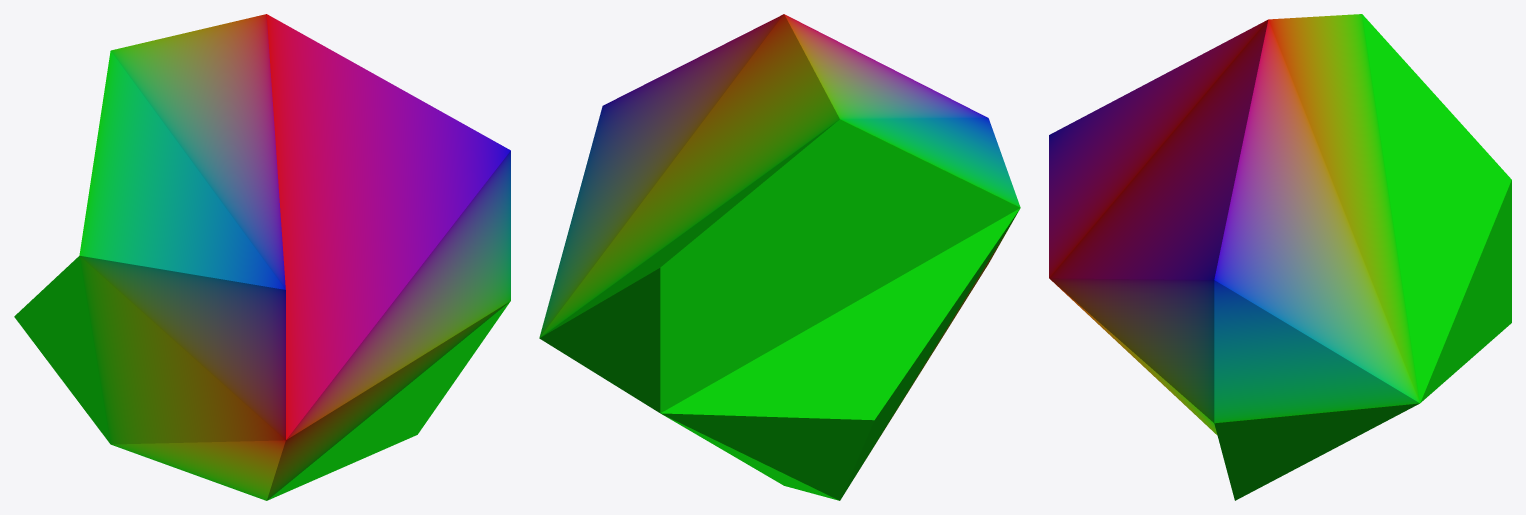
Rendered from all_4.obj.
3 views of the same model, side by side, from view 1: azimuth 30°, elevation 25°; view 2: azimuth 150°, elevation 25°; view 3: azimuth 270°, elevation 25° (orthographic). The views are drawn at different scales.
Size of the model in its own units: 1.85 by 2 by 1.81.
